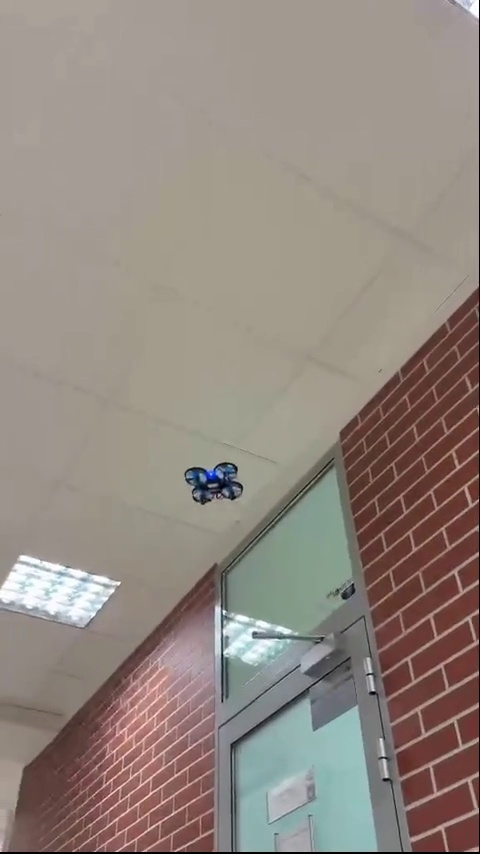drone: (182, 461, 240, 509)
